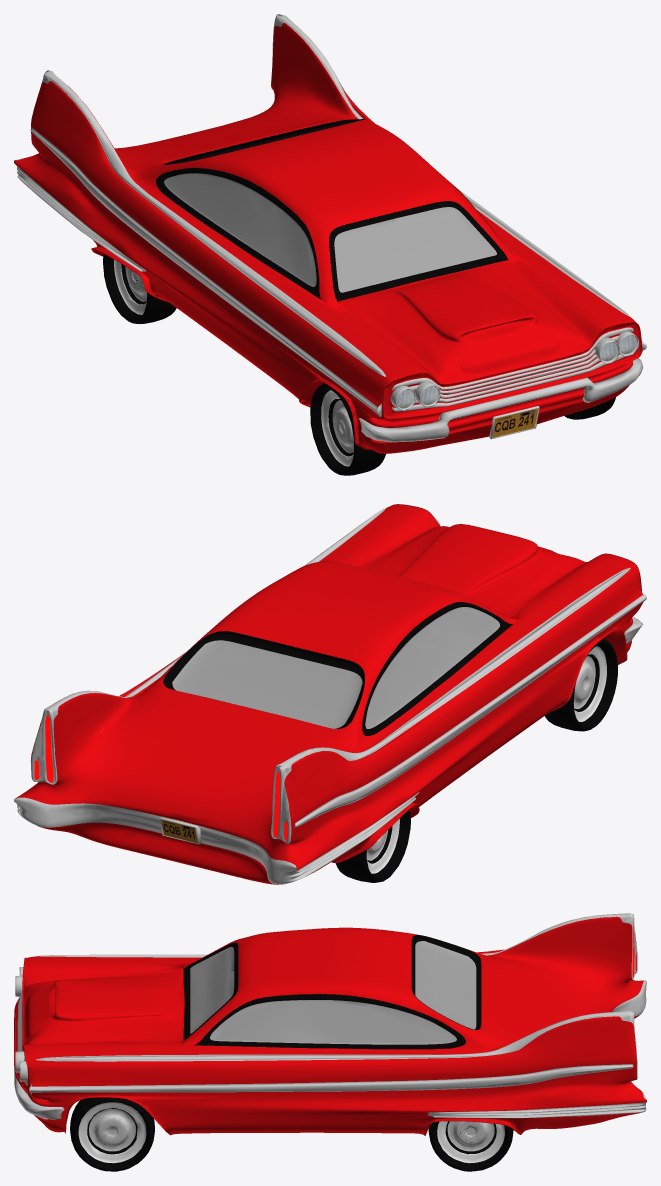
Rendered from car-retro-gt.87ff87a9.glb.
3 views of the same model, one above another, from view 1: azimuth 30°, elevation 25°; view 2: azimuth 150°, elevation 25°; view 3: azimuth 270°, elevation 25° (orthographic). The views are drawn at different scales.
Visible parts, largest first — view 1: RetroCar; view 2: RetroCar; view 3: RetroCar.
Part boxes in pixels (box(x1,y1,x2,y2)): RetroCar: box(14, 14, 646, 475); RetroCar: box(14, 504, 646, 884); RetroCar: box(14, 913, 646, 1171).
Size of the model in its own units: 4.9 by 3.04 by 10.7.
9 materials, 2 textured.
